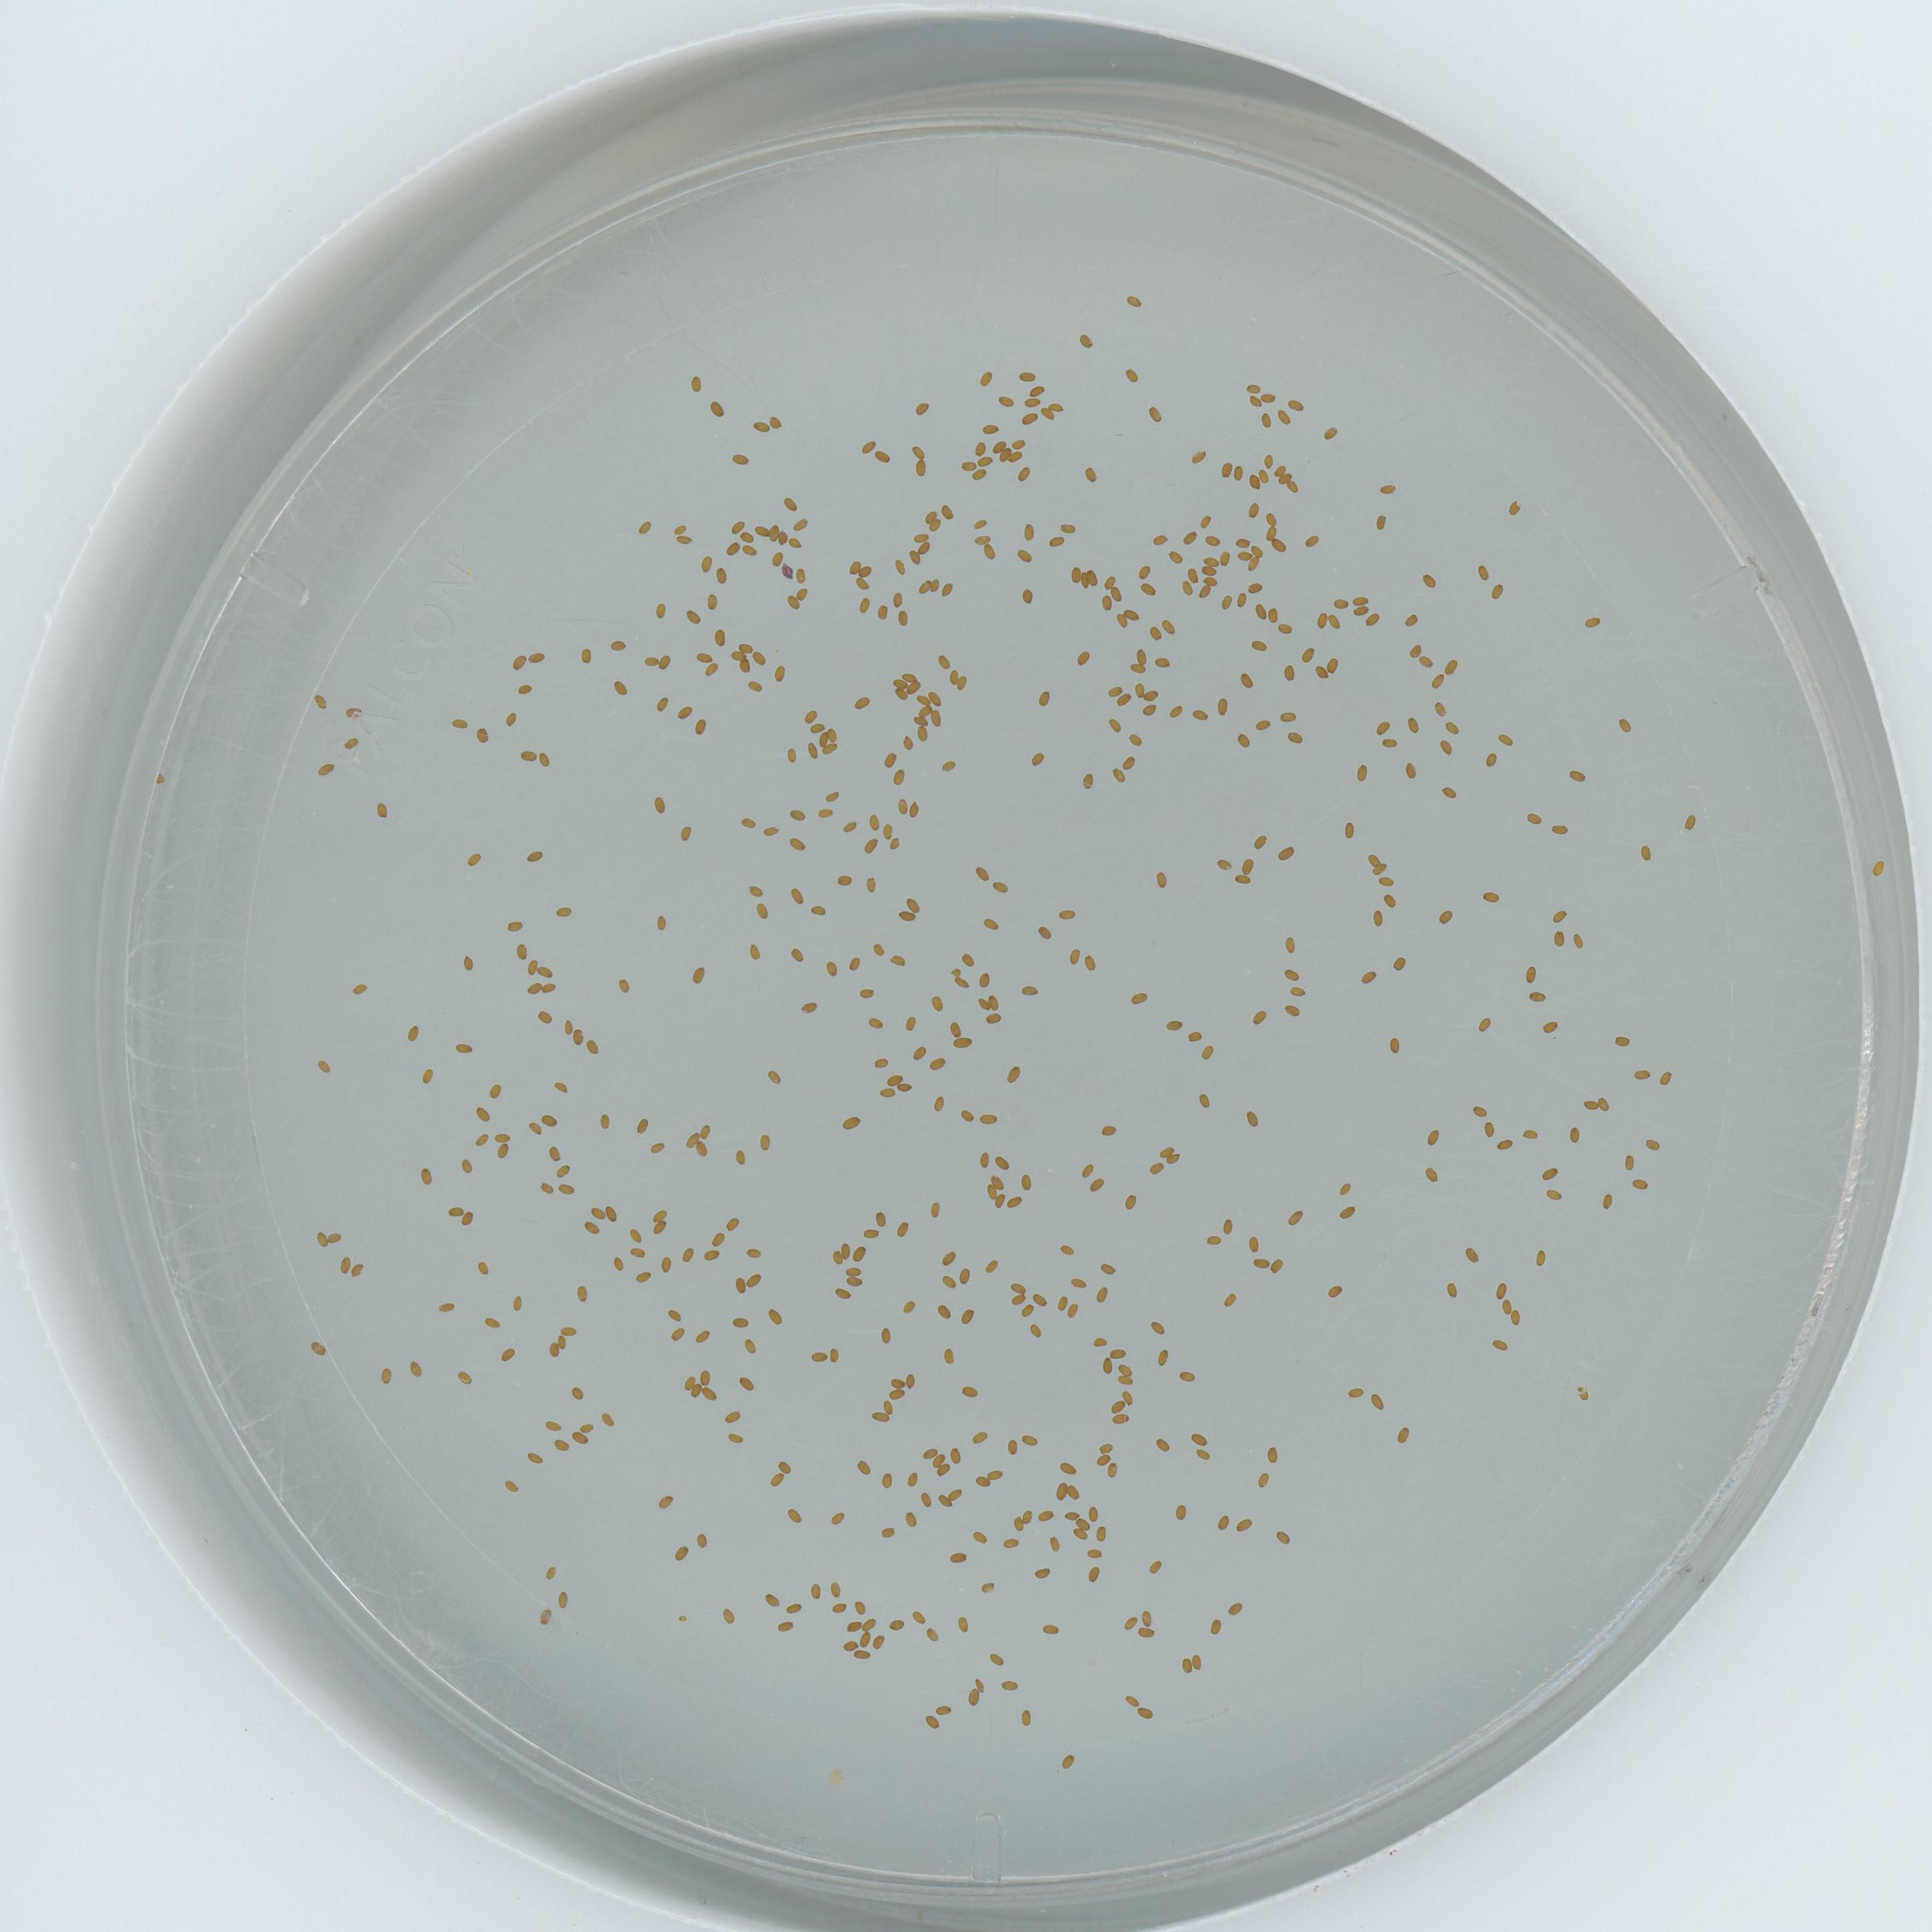seed: (1003, 1063, 1024, 1088), (936, 1249, 959, 1270), (943, 1019, 964, 1040), (929, 1053, 950, 1074), (993, 1152, 1014, 1173), (1479, 1118, 1500, 1139), (978, 1109, 1001, 1129), (1385, 1033, 1403, 1058), (957, 1263, 973, 1290), (632, 1115, 651, 1136), (828, 1507, 849, 1527), (731, 1146, 750, 1168), (1463, 1247, 1484, 1267), (1039, 1619, 1060, 1638), (883, 1072, 906, 1090), (1085, 952, 1102, 975), (1129, 681, 1152, 699), (1219, 1215, 1237, 1238), (736, 1371, 755, 1391), (416, 1166, 435, 1185), (1276, 844, 1295, 863), (1106, 766, 1125, 786), (957, 950, 977, 970), (1284, 1208, 1304, 1228), (1189, 1428, 1208, 1447), (1007, 1276, 1026, 1295), (1056, 1240, 1076, 1260), (1631, 1063, 1651, 1083), (697, 554, 715, 575), (872, 1053, 890, 1074), (766, 1067, 784, 1088), (577, 1419, 598, 1437), (757, 1132, 775, 1154), (955, 1614, 973, 1635), (1056, 1458, 1077, 1476), (1099, 1260, 1120, 1277), (895, 1219, 911, 1242), (874, 1208, 890, 1231), (1127, 662, 1150, 678), (729, 517, 747, 536), (750, 649, 770, 667), (874, 602, 893, 619), (890, 768, 909, 786), (669, 520, 688, 538), (708, 398, 727, 416), (685, 607, 702, 626), (692, 718, 711, 736), (736, 637, 755, 655), (789, 835, 809, 853), (893, 609, 913, 626), (847, 955, 865, 975), (766, 1306, 786, 1323), (540, 1109, 559, 1127), (573, 1283, 591, 1302), (534, 1008, 554, 1026), (596, 1111, 614, 1131), (349, 1260, 366, 1279), (842, 1115, 862, 1132), (925, 1201, 943, 1221), (474, 1102, 492, 1122), (697, 1122, 715, 1141), (522, 955, 540, 975), (1279, 663, 1299, 681), (980, 915, 1000, 932), (1014, 547, 1033, 564), (1033, 688, 1051, 708), (1442, 718, 1461, 736), (1063, 947, 1081, 966), (1394, 1424, 1412, 1444), (1338, 1201, 1357, 1219), (1016, 1302, 1035, 1320), (1000, 1675, 1019, 1693), (1368, 1392, 1387, 1410), (1346, 1382, 1366, 1399), (1085, 1175, 1104, 1192), (1007, 1292, 1026, 1309), (1424, 1127, 1442, 1146), (1152, 1435, 1171, 1453), (1198, 1042, 1215, 1062), (1468, 1102, 1488, 1120), (1522, 966, 1541, 984), (1051, 1293, 1070, 1311), (1115, 1361, 1134, 1378), (1016, 1709, 1035, 1727), (1870, 858, 1888, 878), (419, 1065, 435, 1086), (901, 1371, 916, 1392), (570, 1026, 586, 1047), (1269, 1256, 1284, 1277), (959, 1384, 980, 1399), (1136, 1626, 1157, 1642), (460, 955, 478, 973), (651, 602, 669, 619), (556, 902, 573, 920), (856, 596, 874, 614), (810, 901, 828, 918), (518, 747, 536, 764), (656, 653, 674, 671), (899, 734, 916, 752), (732, 449, 750, 467), (711, 628, 729, 646), (754, 902, 771, 920), (655, 695, 672, 713), (892, 798, 909, 816), (902, 895, 920, 913), (510, 653, 527, 671), (651, 796, 669, 814), (883, 750, 901, 768), (704, 593, 722, 610), (911, 460, 929, 478), (892, 557, 909, 575), (511, 943, 529, 961), (927, 708, 945, 725), (713, 566, 731, 584), (610, 679, 628, 697), (311, 694, 329, 711), (855, 1458, 872, 1476), (777, 1458, 794, 1476), (786, 1599, 803, 1617), (648, 1138, 665, 1155), (924, 1713, 941, 1730), (552, 1437, 570, 1454), (934, 1700, 952, 1718), (651, 1205, 669, 1223), (508, 1293, 525, 1311), (377, 1366, 395, 1384), (939, 1346, 957, 1364), (934, 1300, 952, 1318), (554, 1591, 571, 1608), (656, 1256, 674, 1274), (879, 1327, 897, 1345), (690, 966, 708, 984), (920, 1444, 938, 1461), (828, 1580, 846, 1598), (308, 1338, 326, 1355), (1058, 904, 1076, 922), (1550, 929, 1568, 947), (1438, 740, 1456, 757), (1081, 465, 1099, 483), (1019, 587, 1037, 605), (1159, 617, 1177, 635), (1237, 672, 1254, 690), (1132, 646, 1150, 663), (1097, 596, 1115, 614), (1256, 410, 1274, 428), (1047, 396, 1065, 414), (1683, 814, 1700, 832), (1352, 764, 1369, 782), (1288, 982, 1306, 1000), (1566, 1125, 1583, 1143), (1109, 1345, 1127, 1362), (1325, 1281, 1343, 1299), (1214, 1513, 1231, 1530), (1614, 1033, 1631, 1051), (1019, 1430, 1037, 1447), (1016, 1171, 1033, 1189), (1051, 1483, 1069, 1500), (1177, 1366, 1194, 1384), (1422, 1164, 1440, 1182), (1067, 1483, 1085, 1500), (1251, 1007, 1269, 1024), (1497, 1299, 1514, 1316), (957, 1106, 975, 1123), (1575, 1384, 1592, 1401), (853, 694, 872, 709), (789, 947, 809, 962), (913, 694, 932, 709), (915, 1490, 934, 1506), (405, 1024, 421, 1044), (336, 1256, 352, 1276), (559, 1017, 575, 1037), (571, 1431, 591, 1447), (1017, 368, 1037, 384), (1246, 501, 1261, 520), (1297, 646, 1316, 662), (1550, 908, 1569, 924), (1583, 614, 1603, 630), (1276, 409, 1295, 425), (1178, 529, 1198, 545), (1100, 575, 1116, 594), (1539, 1166, 1559, 1182), (977, 971, 993, 991), (1146, 1159, 1166, 1175), (1019, 982, 1039, 998), (1658, 1069, 1674, 1088), (1495, 1134, 1514, 1150), (1532, 1249, 1548, 1269), (1109, 1398, 1129, 1414), (1196, 1092, 1212, 1111), (959, 1307, 975, 1327), (1111, 1412, 1132, 1426), (952, 1037, 975, 1049), (793, 515, 810, 531), (506, 916, 524, 932), (837, 872, 855, 888), (695, 648, 713, 663), (863, 878, 881, 893), (791, 807, 809, 823), (317, 761, 334, 777), (791, 888, 807, 906), (913, 400, 931, 416), (465, 851, 483, 867), (771, 665, 789, 681), (817, 807, 835, 823), (803, 708, 821, 724), (688, 375, 704, 393), (373, 803, 391, 819), (529, 648, 545, 665), (724, 540, 741, 556), (793, 568, 810, 584), (451, 715, 469, 731), (754, 418, 770, 435), (577, 646, 594, 662), (782, 495, 800, 511), (853, 577, 870, 593), (747, 883, 764, 899), (803, 743, 821, 759), (536, 752, 552, 770), (913, 727, 931, 743), (863, 839, 881, 855), (906, 550, 924, 566), (945, 669, 961, 686), (775, 531, 791, 548), (343, 704, 361, 720), (851, 1599, 869, 1615), (832, 1601, 849, 1617), (554, 1161, 571, 1177), (674, 1543, 690, 1560), (525, 1449, 543, 1465), (911, 1046, 929, 1062), (732, 1313, 750, 1329), (525, 982, 543, 998), (902, 1511, 920, 1527), (487, 1081, 504, 1097), (545, 1417, 563, 1433), (770, 1470, 786, 1488), (628, 1244, 646, 1260), (474, 1258, 492, 1274), (616, 978, 633, 994), (437, 1297, 455, 1313), (904, 1470, 922, 1486), (658, 1491, 674, 1509), (777, 1619, 794, 1635), (786, 1506, 803, 1522), (809, 1583, 826, 1599), (568, 1385, 586, 1401), (709, 1230, 727, 1246), (743, 1338, 761, 1353), (727, 1430, 745, 1445), (939, 1274, 957, 1290), (582, 1219, 600, 1235), (628, 1226, 646, 1242), (724, 1407, 741, 1422), (747, 1270, 764, 1286), (458, 1157, 476, 1173), (679, 1246, 697, 1261), (720, 1608, 738, 1624), (545, 1145, 563, 1161), (679, 1373, 695, 1391), (1350, 591, 1368, 607), (1552, 821, 1569, 837), (1382, 893, 1399, 909), (1019, 410, 1037, 426), (1244, 379, 1261, 395), (1233, 533, 1251, 548), (1122, 366, 1139, 382), (1483, 890, 1500, 906), (1568, 766, 1585, 782), (1375, 720, 1392, 736), (1214, 856, 1231, 872), (1238, 858, 1256, 874), (1249, 637, 1267, 653), (1490, 582, 1506, 600), (1166, 702, 1184, 718), (1311, 663, 1329, 679), (980, 419, 998, 435), (1150, 533, 1168, 548), (1166, 548, 1184, 564), (1617, 718, 1635, 734), (1327, 614, 1345, 630), (1442, 658, 1460, 674), (1401, 763, 1419, 778), (1189, 448, 1207, 464), (1497, 731, 1514, 747), (1281, 936, 1299, 952), (1440, 786, 1458, 801), (998, 393, 1016, 409), (1072, 651, 1090, 667), (1134, 564, 1152, 580), (1145, 626, 1162, 642), (1474, 564, 1491, 580), (1212, 699, 1230, 715), (1369, 909, 1387, 925), (1191, 706, 1208, 722), (1286, 395, 1304, 410), (1286, 731, 1304, 747), (978, 370, 996, 386), (1332, 594, 1350, 610), (1279, 708, 1295, 725), (1506, 499, 1522, 517), (1021, 522, 1037, 540), (1276, 621, 1293, 637), (1014, 465, 1031, 481), (1196, 513, 1214, 529), (1125, 731, 1143, 747), (1035, 924, 1053, 939), (1115, 692, 1132, 708), (1437, 909, 1454, 925), (1123, 605, 1139, 623), (1253, 717, 1270, 732), (1403, 718, 1421, 734), (1028, 752, 1046, 768), (1123, 292, 1141, 308), (1139, 702, 1157, 718), (1322, 423, 1338, 441), (1026, 380, 1044, 396), (1391, 954, 1407, 971), (1150, 872, 1168, 888), (1233, 591, 1249, 609), (991, 439, 1007, 456), (987, 1651, 1005, 1667), (1026, 1322, 1044, 1338), (1251, 1253, 1269, 1269), (1283, 1001, 1300, 1017), (971, 1428, 989, 1444), (1152, 1350, 1169, 1366), (1529, 987, 1546, 1003), (1171, 1504, 1189, 1520), (1003, 1534, 1021, 1550), (1148, 1320, 1166, 1336), (1097, 1440, 1115, 1456), (1263, 1445, 1279, 1463), (1003, 1438, 1021, 1454), (1235, 1516, 1253, 1532), (1044, 1536, 1062, 1552), (1543, 1017, 1560, 1033), (1491, 1281, 1509, 1297), (1244, 1235, 1261, 1251), (1359, 968, 1376, 984), (1522, 1123, 1539, 1139), (1221, 1292, 1238, 1307), (1164, 1016, 1182, 1031), (1185, 1028, 1203, 1044), (985, 994, 1001, 1012), (1122, 1691, 1139, 1707), (1085, 1566, 1100, 1583), (1031, 1292, 1049, 1307), (1120, 1192, 1138, 1208), (1545, 1185, 1562, 1201), (1283, 968, 1300, 984), (1336, 1180, 1353, 1196), (729, 649, 748, 663), (732, 1276, 747, 1295), (870, 1410, 890, 1424), (685, 1131, 699, 1150), (853, 1244, 867, 1263), (695, 1141, 709, 1161), (1069, 566, 1083, 586), (977, 455, 996, 469), (1086, 568, 1099, 589), (1115, 1375, 1136, 1387), (927, 690, 943, 706), (678, 704, 694, 720), (911, 444, 927, 460), (642, 653, 658, 669), (936, 653, 952, 669), (867, 816, 883, 832), (862, 439, 878, 455), (653, 915, 669, 931), (502, 711, 518, 727), (939, 502, 955, 518), (770, 414, 786, 430), (678, 826, 694, 842), (890, 950, 906, 966), (939, 580, 955, 596), (786, 748, 801, 764), (740, 816, 755, 832), (474, 727, 490, 743), (610, 637, 626, 653), (764, 824, 780, 840), (890, 591, 906, 607), (796, 586, 812, 602), (842, 819, 858, 835), (941, 757, 957, 773), (789, 536, 805, 552), (748, 679, 764, 695), (888, 837, 904, 853), (906, 681, 922, 697), (881, 823, 897, 839), (908, 801, 924, 817), (747, 943, 763, 959), (350, 980, 366, 996), (904, 1014, 920, 1030), (694, 1327, 709, 1343), (501, 1345, 517, 1361), (948, 1447, 964, 1463), (462, 1210, 478, 1226), (747, 1244, 763, 1260), (538, 1178, 554, 1194), (801, 998, 817, 1014), (948, 1550, 964, 1566), (888, 1373, 904, 1389), (561, 1323, 577, 1339), (448, 1201, 464, 1217), (931, 1095, 947, 1111), (586, 1037, 602, 1053), (527, 1120, 543, 1136), (872, 1635, 888, 1651), (704, 1387, 720, 1403), (879, 1472, 895, 1488), (407, 1361, 423, 1376), (929, 994, 945, 1010), (934, 1491, 950, 1507), (635, 1267, 651, 1283), (456, 1039, 472, 1054), (725, 1214, 741, 1230), (557, 1180, 573, 1196), (812, 1346, 828, 1362), (694, 1532, 709, 1548), (667, 1306, 683, 1322), (313, 1231, 329, 1247), (704, 1247, 720, 1263), (669, 1325, 685, 1341), (538, 1608, 554, 1624), (554, 1077, 570, 1093), (540, 978, 556, 994), (869, 1014, 885, 1030), (605, 1205, 621, 1221), (764, 1592, 780, 1608), (826, 1346, 842, 1362), (589, 1203, 605, 1219), (1373, 513, 1389, 529), (1304, 533, 1320, 548), (1154, 655, 1169, 671), (1483, 752, 1499, 768), (1217, 462, 1233, 478), (991, 879, 1007, 895), (1325, 656, 1341, 672), (1431, 702, 1447, 718), (1378, 479, 1394, 495), (1407, 642, 1422, 658), (980, 543, 996, 559), (1246, 474, 1261, 490), (1039, 407, 1054, 423), (1260, 389, 1276, 405), (1139, 582, 1155, 598), (1106, 718, 1122, 734), (1109, 587, 1125, 603), (1253, 833, 1269, 849), (1421, 571, 1437, 587), (975, 867, 991, 883), (971, 515, 987, 531), (1203, 533, 1219, 548), (1146, 405, 1162, 421), (1382, 736, 1398, 752), (1263, 510, 1279, 525), (1270, 538, 1286, 554), (1251, 605, 1267, 621), (1638, 846, 1654, 862), (1527, 810, 1543, 826), (1184, 566, 1200, 582), (1079, 773, 1095, 789), (971, 441, 987, 456), (1341, 823, 1357, 839), (1261, 525, 1277, 541), (985, 1010, 1001, 1026), (1037, 1507, 1053, 1523), (1079, 1162, 1095, 1178), (987, 1465, 1003, 1481), (1122, 1614, 1138, 1629), (1007, 1192, 1023, 1208), (1477, 1016, 1493, 1031), (1274, 1529, 1290, 1545), (971, 1529, 987, 1545), (1063, 1302, 1079, 1318), (1146, 1559, 1162, 1575), (1491, 1336, 1507, 1352), (1444, 1281, 1460, 1297), (984, 1258, 1000, 1274), (1131, 989, 1146, 1005), (1207, 1619, 1223, 1635), (1069, 1274, 1085, 1290), (1093, 1286, 1109, 1302), (1226, 1601, 1242, 1617), (1599, 1192, 1615, 1208), (1139, 1608, 1155, 1624), (1092, 1527, 1108, 1543), (1633, 1177, 1649, 1192), (1622, 1155, 1638, 1171), (1136, 1704, 1152, 1720), (1254, 1472, 1270, 1488), (1244, 1109, 1260, 1125), (1194, 1447, 1210, 1463), (1120, 1391, 1136, 1407), (971, 1677, 987, 1693), (985, 1184, 1001, 1200), (809, 720, 826, 734), (876, 449, 893, 464), (517, 681, 534, 695), (899, 909, 916, 924), (738, 531, 755, 545), (525, 849, 543, 863), (824, 789, 842, 803), (494, 1131, 511, 1145), (483, 1315, 501, 1329), (897, 1079, 915, 1093), (924, 1628, 941, 1642), (835, 1284, 853, 1299), (844, 1619, 862, 1633), (610, 1256, 628, 1270), (651, 1221, 669, 1235), (846, 1261, 863, 1276), (879, 1085, 897, 1099), (883, 1398, 897, 1415), (826, 959, 840, 977), (547, 1339, 561, 1357), (1021, 396, 1039, 410), (1008, 435, 1026, 449), (1246, 580, 1263, 594), (1058, 520, 1076, 534), (1233, 874, 1251, 888), (1113, 612, 1127, 630), (1231, 464, 1246, 481), (1233, 732, 1251, 747), (1569, 932, 1587, 947), (959, 458, 977, 472), (1085, 1546, 1102, 1560), (1099, 1357, 1113, 1375), (989, 1175, 1007, 1189), (1058, 1755, 1076, 1769), (1178, 1656, 1192, 1674), (1644, 1136, 1661, 1150), (1099, 1122, 1116, 1136), (977, 1150, 991, 1168), (1509, 1309, 1523, 1327), (977, 994, 991, 1012), (901, 671, 918, 685), (1276, 471, 1293, 485), (1088, 1502, 1099, 1525), (911, 715, 931, 727), (886, 1389, 906, 1401), (993, 1192, 1005, 1212), (770, 550, 784, 566), (343, 736, 359, 750), (915, 529, 931, 543), (786, 596, 801, 610), (738, 660, 754, 674), (870, 941, 886, 955), (637, 520, 653, 534), (915, 580, 931, 594), (704, 663, 720, 678), (743, 545, 759, 559), (918, 541, 934, 556), (955, 674, 970, 690), (699, 1368, 713, 1384), (911, 1610, 927, 1624), (474, 1131, 488, 1146), (890, 1617, 906, 1631), (863, 1224, 879, 1238), (600, 1412, 616, 1426), (860, 985, 876, 1000), (495, 1143, 511, 1157), (543, 1566, 559, 1580), (862, 1615, 878, 1629), (456, 1369, 472, 1384), (844, 1638, 860, 1652), (902, 1299, 918, 1313), (327, 1228, 343, 1242), (502, 1477, 518, 1491), (315, 1058, 331, 1072), (556, 1334, 570, 1350), (1177, 582, 1192, 596), (971, 469, 987, 483), (1120, 755, 1136, 770), (1403, 612, 1419, 626), (1106, 683, 1122, 697), (1217, 594, 1233, 609), (1076, 333, 1092, 347), (1196, 586, 1212, 600), (1376, 874, 1392, 888), (1267, 607, 1281, 623), (1260, 453, 1276, 467), (1417, 655, 1433, 669), (1143, 688, 1159, 702), (1364, 612, 1380, 626), (1311, 614, 1327, 628), (1047, 534, 1063, 548), (1430, 674, 1445, 688), (1284, 479, 1300, 494), (1217, 550, 1231, 566), (1366, 851, 1382, 865), (975, 1476, 991, 1490), (1070, 1527, 1086, 1541), (966, 1691, 982, 1706), (1031, 1564, 1047, 1578), (1598, 1095, 1612, 1111), (1090, 1336, 1106, 1350), (1062, 1507, 1077, 1522), (1582, 1097, 1598, 1111), (1104, 1465, 1120, 1479), (1205, 1233, 1221, 1247), (1019, 1507, 1033, 1523), (980, 1580, 996, 1594), (1159, 1143, 1173, 1159), (1166, 1152, 1182, 1166), (1074, 1516, 1090, 1530), (948, 966, 962, 982), (892, 676, 908, 690), (676, 534, 694, 547), (768, 525, 780, 543), (853, 1649, 870, 1661), (973, 533, 991, 545), (1198, 566, 1215, 579), (1095, 1454, 1113, 1467), (846, 1276, 865, 1286), (846, 559, 860, 573), (924, 510, 938, 524), (755, 524, 770, 538), (931, 520, 945, 534), (881, 1525, 895, 1539), (840, 1242, 855, 1256), (858, 1633, 872, 1647), (932, 1453, 947, 1467), (954, 977, 968, 991), (1249, 543, 1263, 557), (1246, 395, 1260, 409), (1272, 464, 1286, 478), (1246, 559, 1260, 573), (1012, 1516, 1026, 1530), (823, 745, 839, 757), (929, 577, 941, 593), (893, 688, 909, 701), (832, 1249, 844, 1265), (538, 966, 554, 978), (936, 1463, 952, 1476), (1203, 554, 1219, 566), (1352, 605, 1368, 617), (1371, 862, 1387, 874), (1203, 575, 1219, 587), (996, 449, 1012, 462), (915, 708, 932, 718), (1081, 568, 1090, 589), (862, 563, 874, 577), (948, 1486, 962, 1499), (690, 1384, 702, 1398), (1258, 469, 1270, 483), (1237, 550, 1251, 563), (1191, 1656, 1203, 1670), (817, 731, 828, 747), (1008, 451, 1024, 462), (828, 729, 840, 741)
